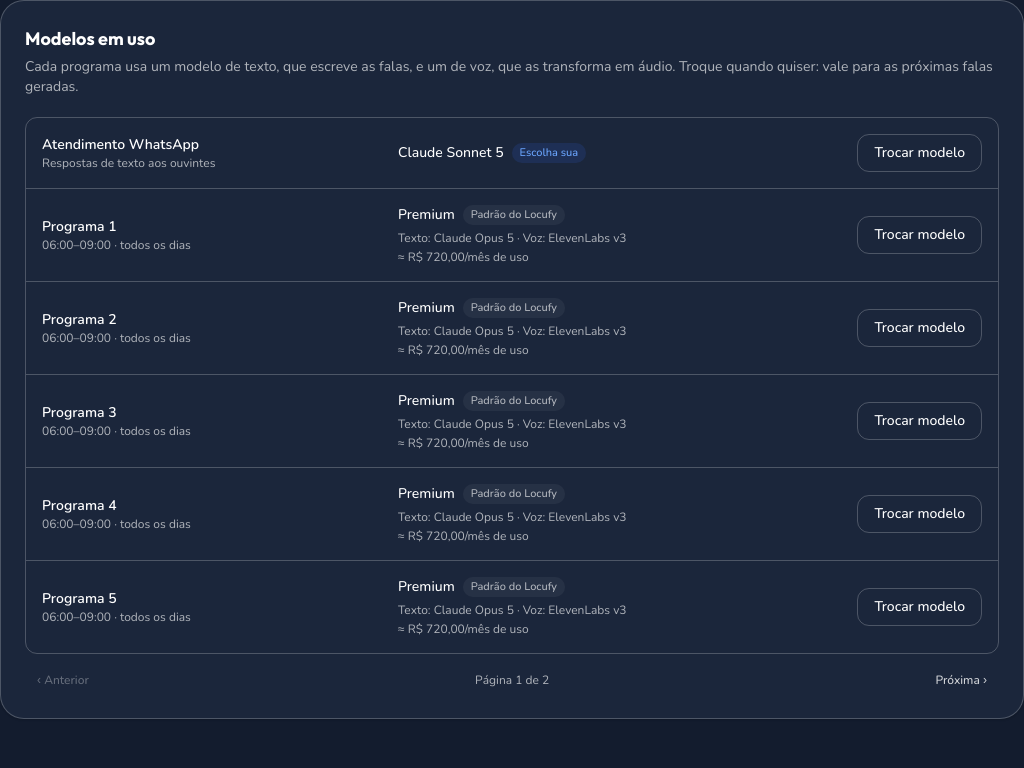
Test: pagina a lista quando há muitos programas
The image size is (1024, 768).
Expected: the text "Programa 5" is shown, left=42, top=589, right=117, bottom=608
Expected: the text "Programa 6" is not shown
Click the button "Próxima ›" at (961, 680), box left=924, top=666, right=999, bottom=694
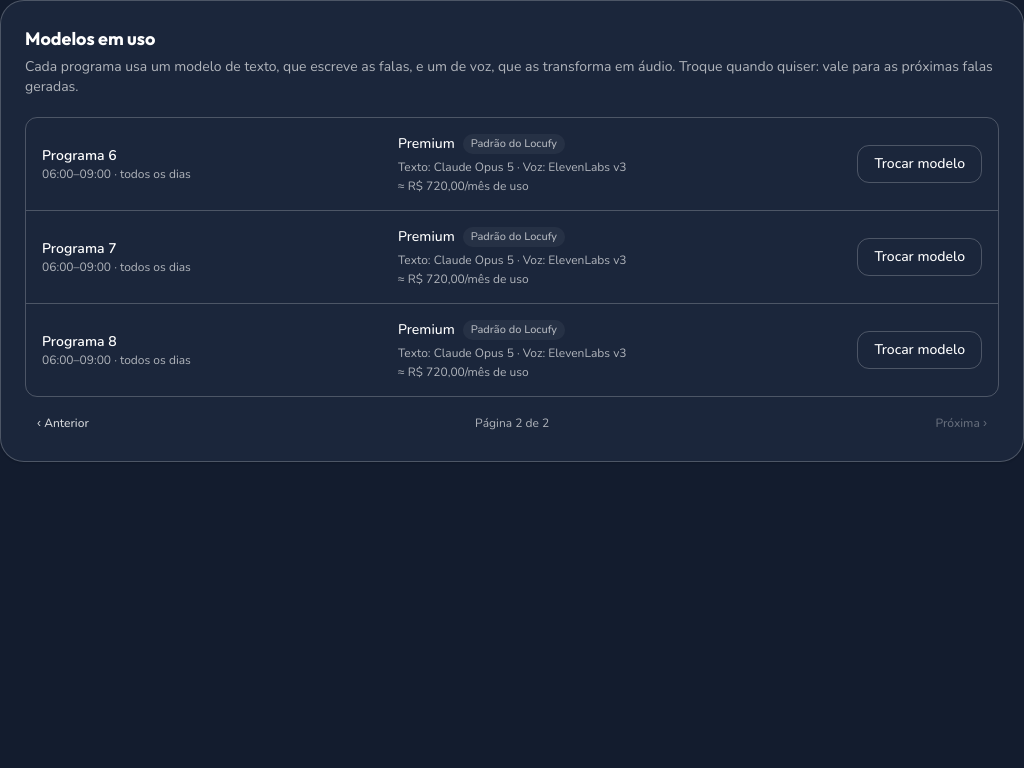
Expected: the text "Programa 8" is shown, left=42, top=332, right=117, bottom=351
Expected: the text "Atendimento WhatsApp" is gone
